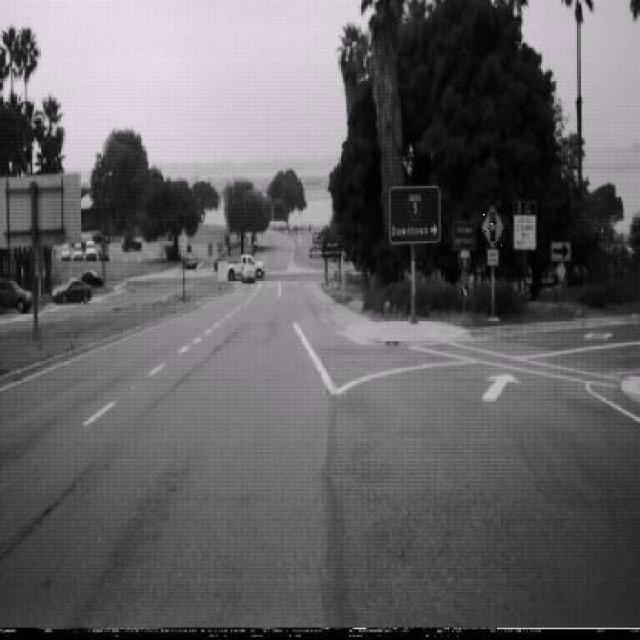signalAhead: (482, 204, 503, 248)
